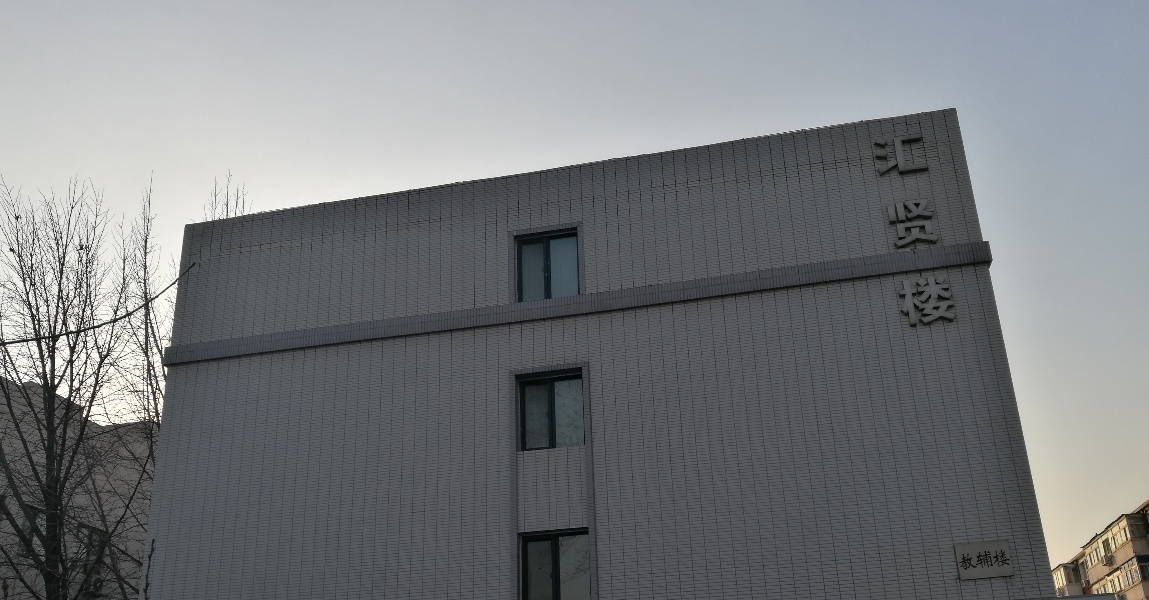text: (865, 127, 880, 335), (881, 127, 896, 335), (897, 127, 912, 335), (913, 127, 928, 335), (929, 127, 944, 335), (945, 127, 960, 335), (961, 127, 965, 335), (961, 548, 976, 573), (977, 548, 992, 573), (993, 548, 1008, 573), (957, 548, 960, 573), (1009, 548, 1012, 573)
